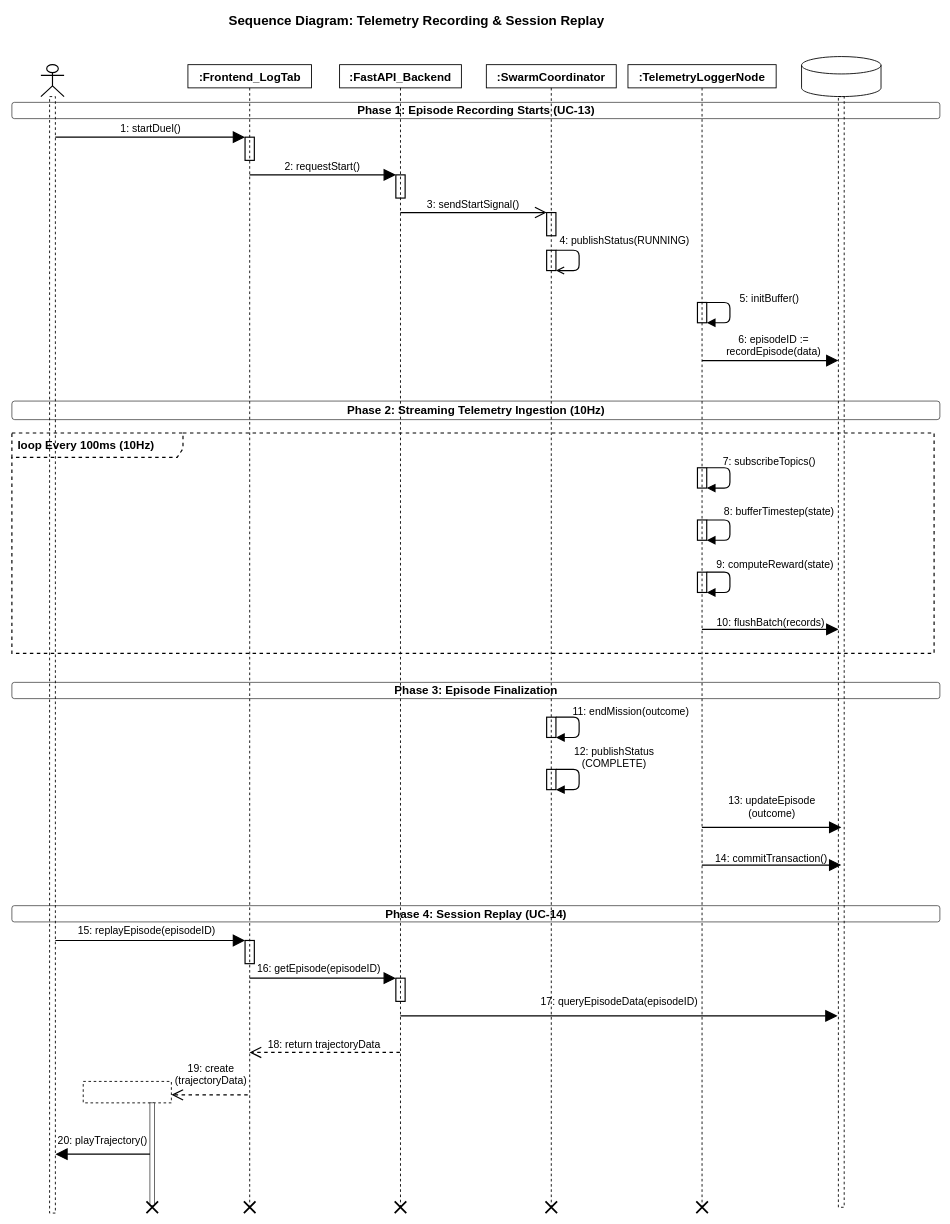
Image size: 950x1224. Some labels were removed from this diagram. The shapes that lost their labels are listed below. From the top down, each one's centre as x and y in pixels, then its label:
point (52, 80): :GCS_Operator
point (841, 76): :SQLite_DB
point (127, 1092): :ReplayController
